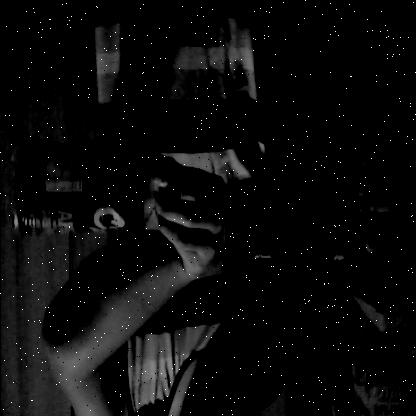Plastic Bottle: (4, 126, 190, 254)
